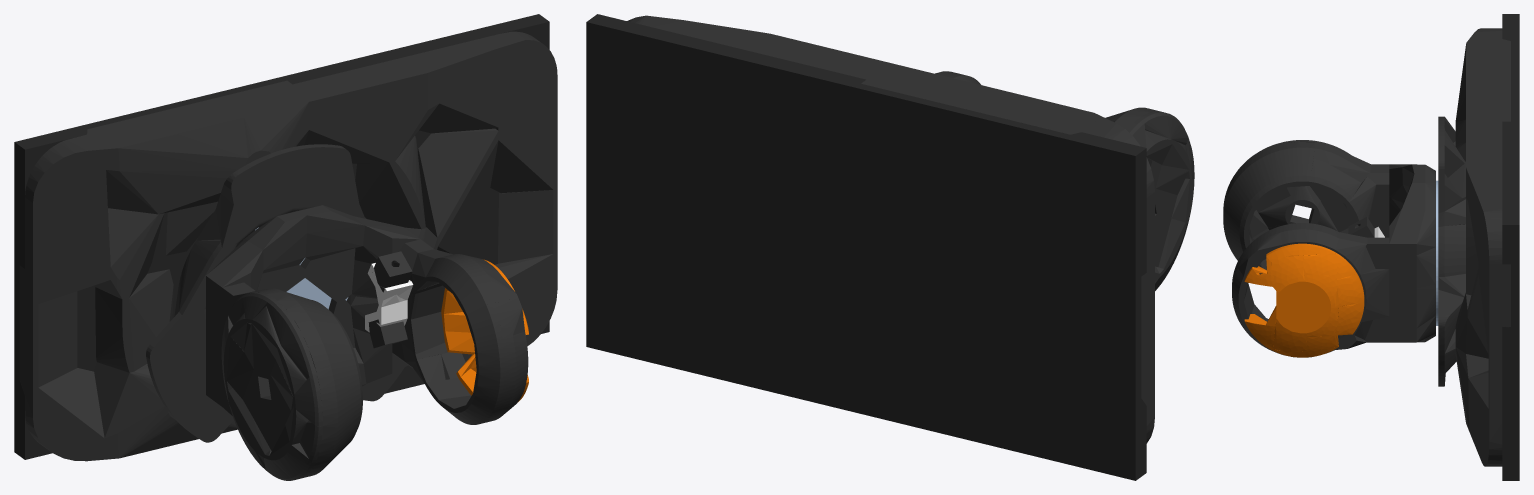
File: LLEG_LINK5_mesh.dae
The picture shows the model from 3 angles, left to right: view 1: azimuth 30°, elevation 25°; view 2: azimuth 150°, elevation 25°; view 3: azimuth 270°, elevation 25°; orthographic projection. The views are drawn at different scales.
Parts seen in each view (by area): view 1: LLEG_LINK5 (×12); view 2: LLEG_LINK5 (×3); view 3: LLEG_LINK5 (×10).
Boxes of the visible parts, x1=… form: LLEG_LINK5 (×12): x1=14, y1=14, x2=557, y2=480; LLEG_LINK5 (×3): x1=586, y1=14, x2=1194, y2=480; LLEG_LINK5 (×10): x1=1223, y1=14, x2=1519, y2=480.
Size of the model in its own units: 0.23 by 0.13 by 0.1365.
